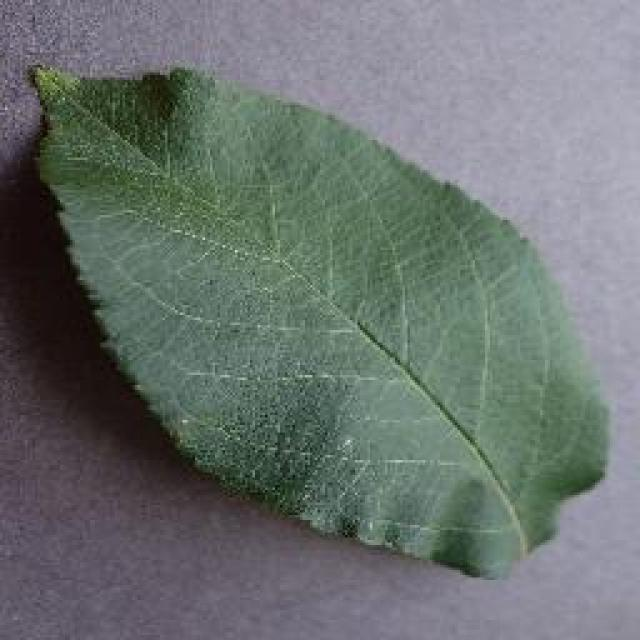apple healthy: (25, 58, 613, 580)
